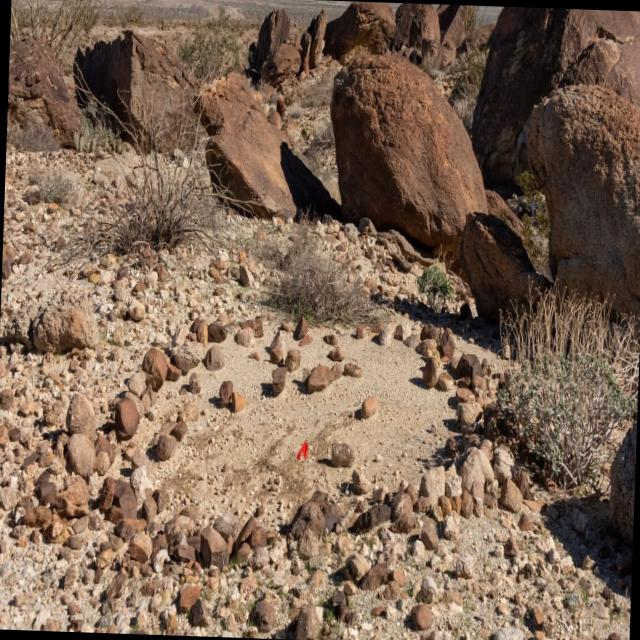rocks: (0, 277, 630, 640)
stone: (330, 55, 486, 268), (471, 6, 640, 185), (526, 85, 640, 320), (73, 30, 198, 151), (194, 71, 296, 218), (7, 37, 79, 145), (323, 1, 394, 61), (252, 9, 302, 85), (32, 305, 98, 353), (393, 3, 439, 55), (436, 4, 465, 66), (308, 9, 327, 68)
